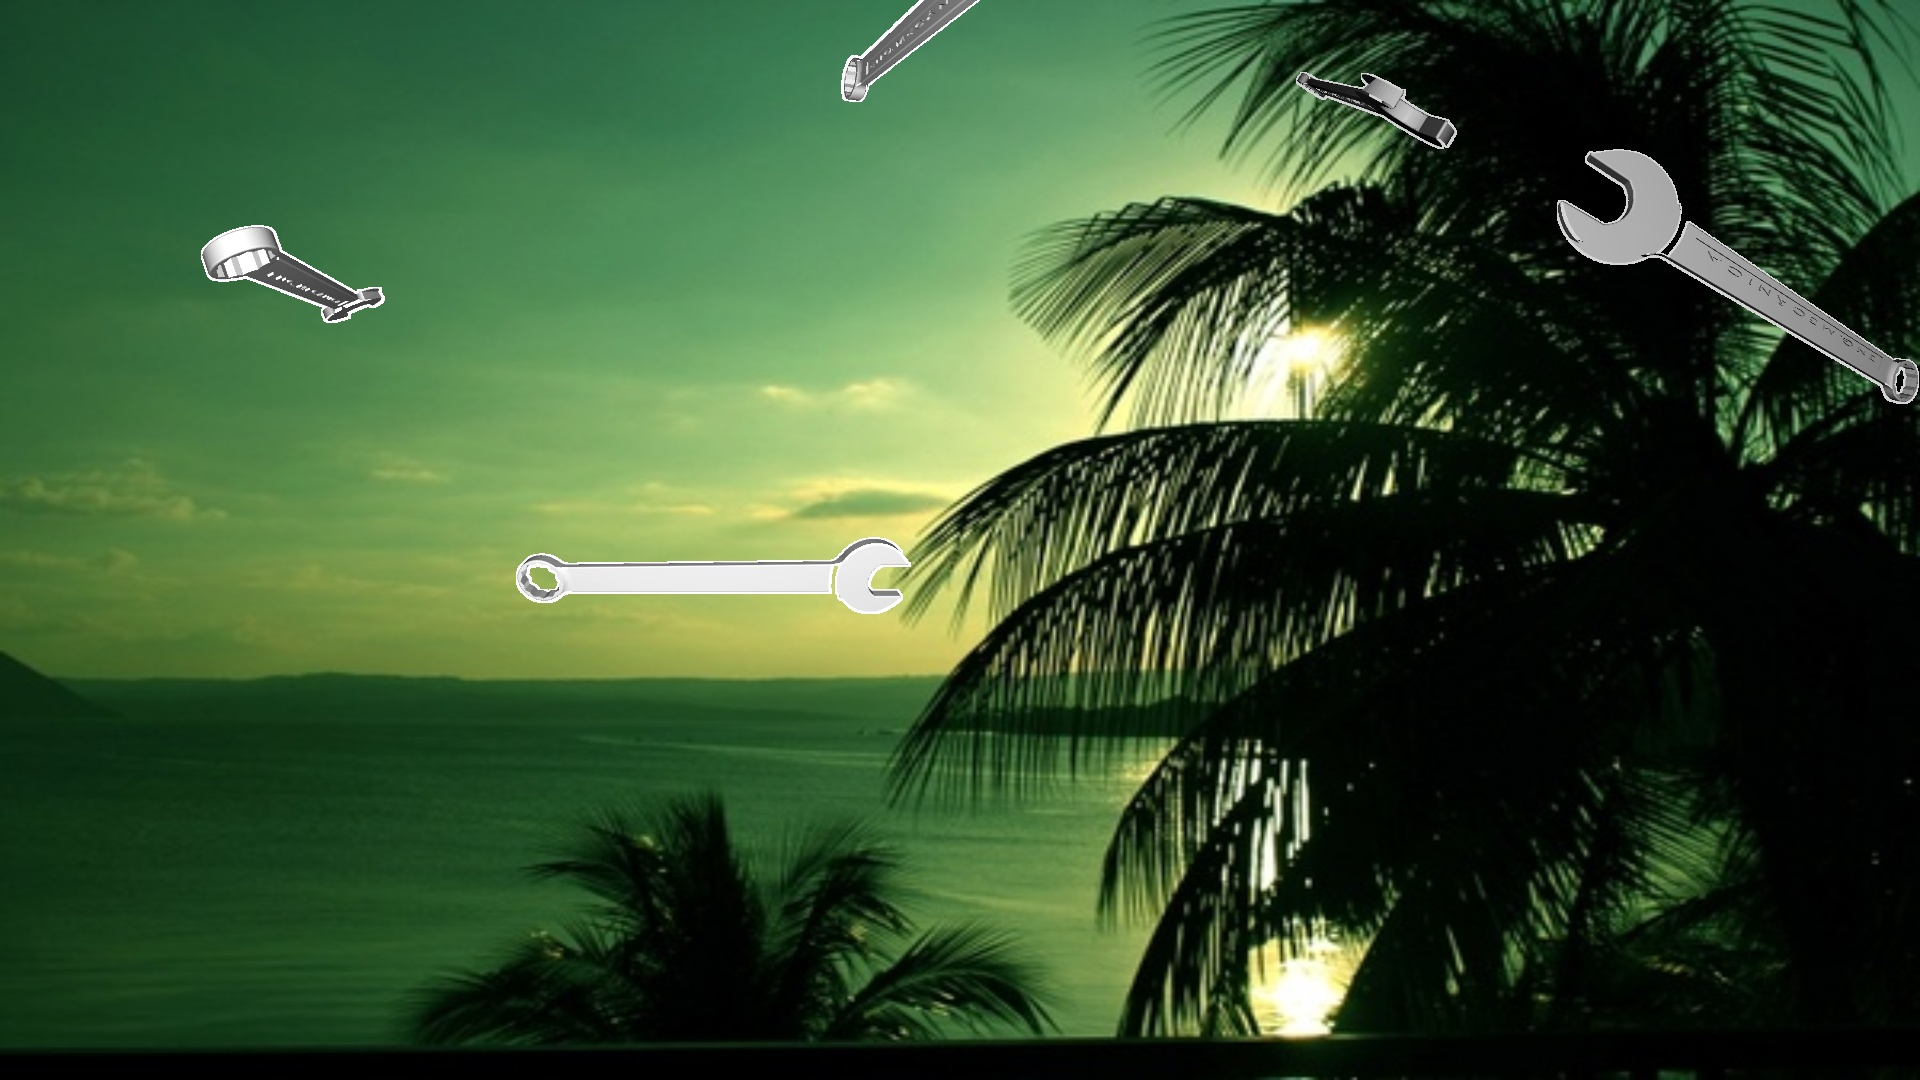Mixed Key: (1557, 149, 1917, 404), (516, 537, 910, 613), (200, 225, 384, 322), (841, 0, 978, 102), (1296, 73, 1456, 148)
